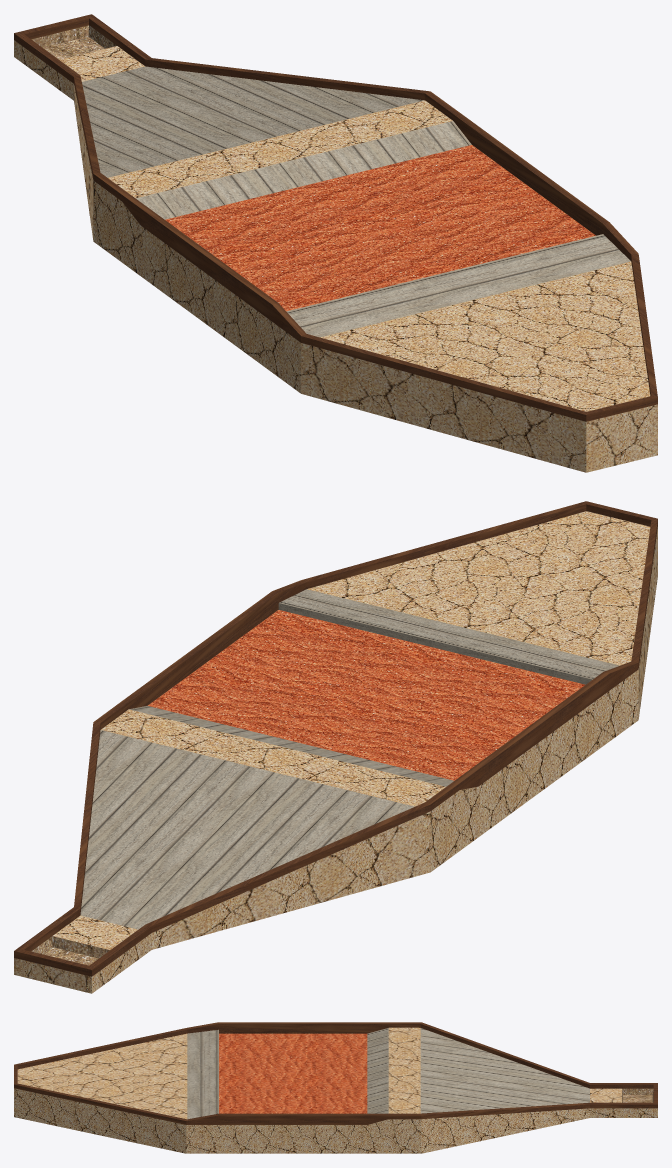
Rendered from Stage2-07.gltf.
3 views of the same model, one above another, from view 1: azimuth 30°, elevation 25°; view 2: azimuth 150°, elevation 25°; view 3: azimuth 270°, elevation 25° (orthographic). The views are drawn at different scales.
Visible parts, largest first — view 1: Cube.001; view 2: Cube.001; view 3: Cube.001.
Part boxes in pixels (box(x1,y1,x2,y2)): Cube.001: box(14, 14, 657, 472); Cube.001: box(14, 501, 657, 993); Cube.001: box(14, 1022, 657, 1153).
Size of the model in its own units: 10.4 by 2 by 30.37.
Materials: 9 (9 with a texture image).
